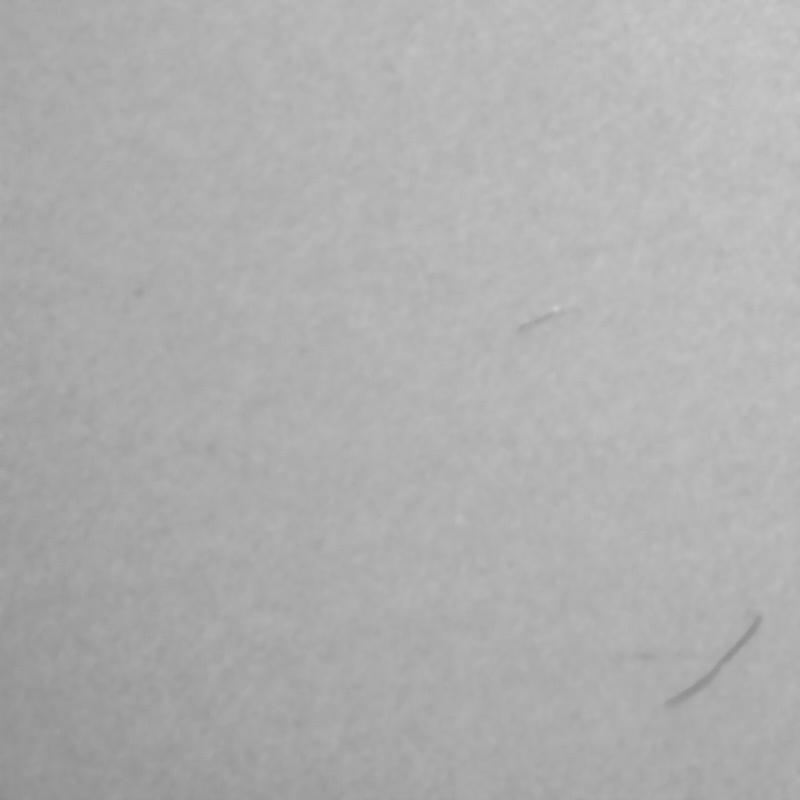defect: (622, 602, 792, 728), (488, 289, 591, 342)
